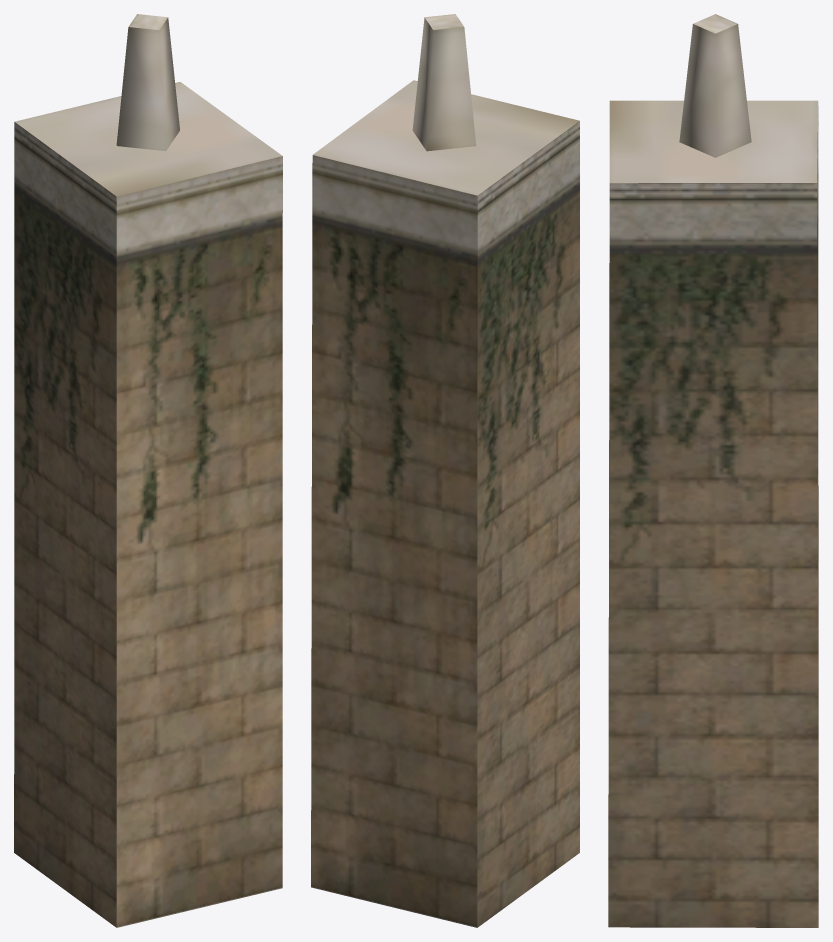
The model's file is thm_nboo_imprv_pillar_s01_l3.fbx.
3 views of the same model, side by side, from view 1: azimuth 30°, elevation 25°; view 2: azimuth 150°, elevation 25°; view 3: azimuth 270°, elevation 25° (orthographic).
Parts seen in each view (by area): view 1: mesh_node; view 2: mesh_node; view 3: mesh_node.
Part boxes in pixels (x1,y1,x2,y2): mesh_node: [14, 14, 282, 927]; mesh_node: [311, 14, 579, 927]; mesh_node: [608, 14, 818, 927].
Size of the model in its own units: 2.03 by 9.9 by 2.19.
